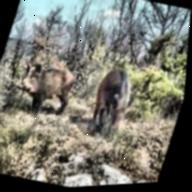boar: (72, 53, 160, 159), (0, 44, 94, 126)
